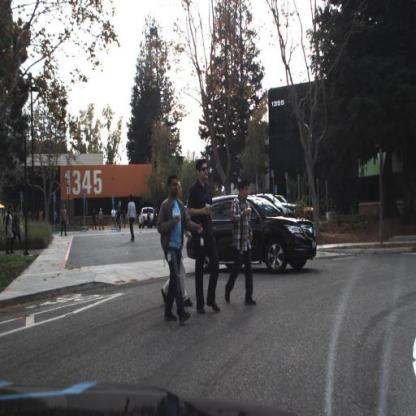biker: (113, 204, 125, 234), (115, 204, 123, 232), (110, 208, 118, 231)
car: (188, 192, 319, 276), (12, 204, 26, 254), (137, 207, 156, 229)
pedestrian: (158, 175, 203, 323), (187, 161, 222, 314), (224, 182, 257, 308), (170, 178, 187, 303), (4, 204, 17, 261), (126, 195, 138, 245), (14, 202, 22, 257), (59, 204, 70, 239), (60, 203, 69, 237), (91, 205, 99, 232), (98, 206, 105, 234), (100, 207, 105, 233)
